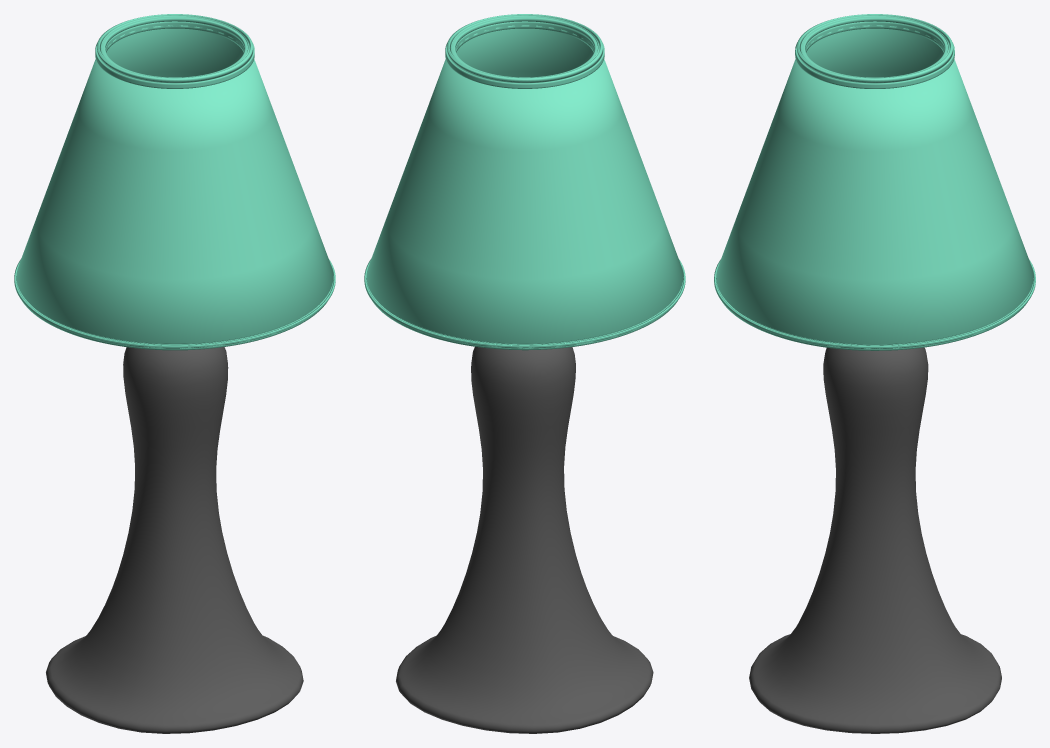
The model's file is Lamp.fbx.
The picture shows the model from 3 angles, left to right: view 1: azimuth 30°, elevation 25°; view 2: azimuth 150°, elevation 25°; view 3: azimuth 270°, elevation 25°; orthographic projection.
Parts seen in each view (by area): view 1: lamba; view 2: lamba; view 3: lamba.
Boxes of the visible parts, box(x1,y1,x2,y2) form: lamba: box(14, 14, 335, 733); lamba: box(364, 14, 685, 733); lamba: box(714, 14, 1035, 733).
Size of the model in its own units: 0.1831 by 0.4 by 0.1831.
